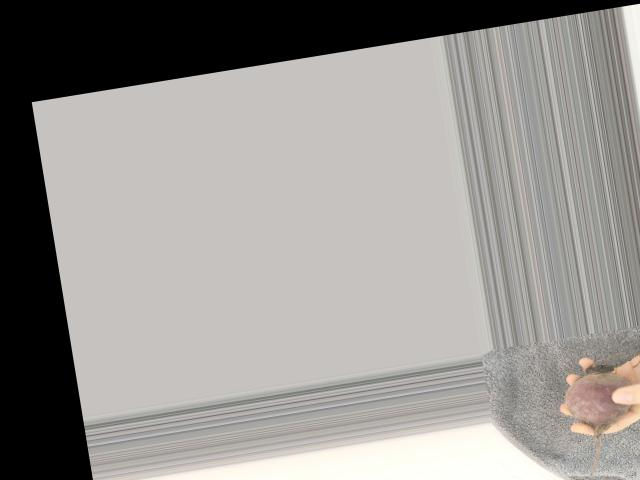beet: (559, 360, 640, 480)
